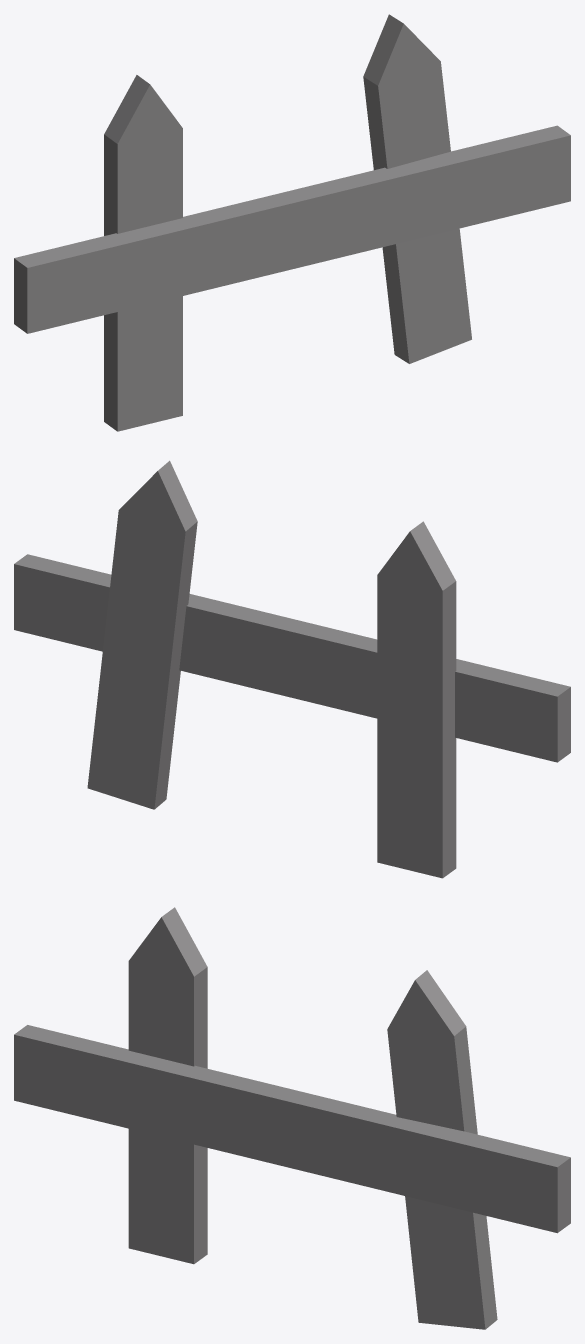
Rendered from fence.fbx.
3 renders of one model, top to bottom at view 1: azimuth 30°, elevation 25°; view 2: azimuth 150°, elevation 25°; view 3: azimuth 330°, elevation 25°, orthographic.
Visible parts, largest first — view 1: fence; view 2: fence; view 3: fence.
Boxes of the visible parts, left/top/right/bottom form: fence: left=14, top=14, right=570, bottom=431; fence: left=14, top=460, right=570, bottom=878; fence: left=14, top=907, right=570, bottom=1329.
Size of the model in its own units: 30 by 18.05 by 2.57.
